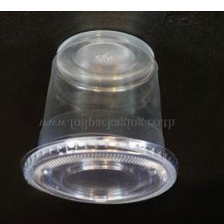glass: (11, 21, 190, 209)
